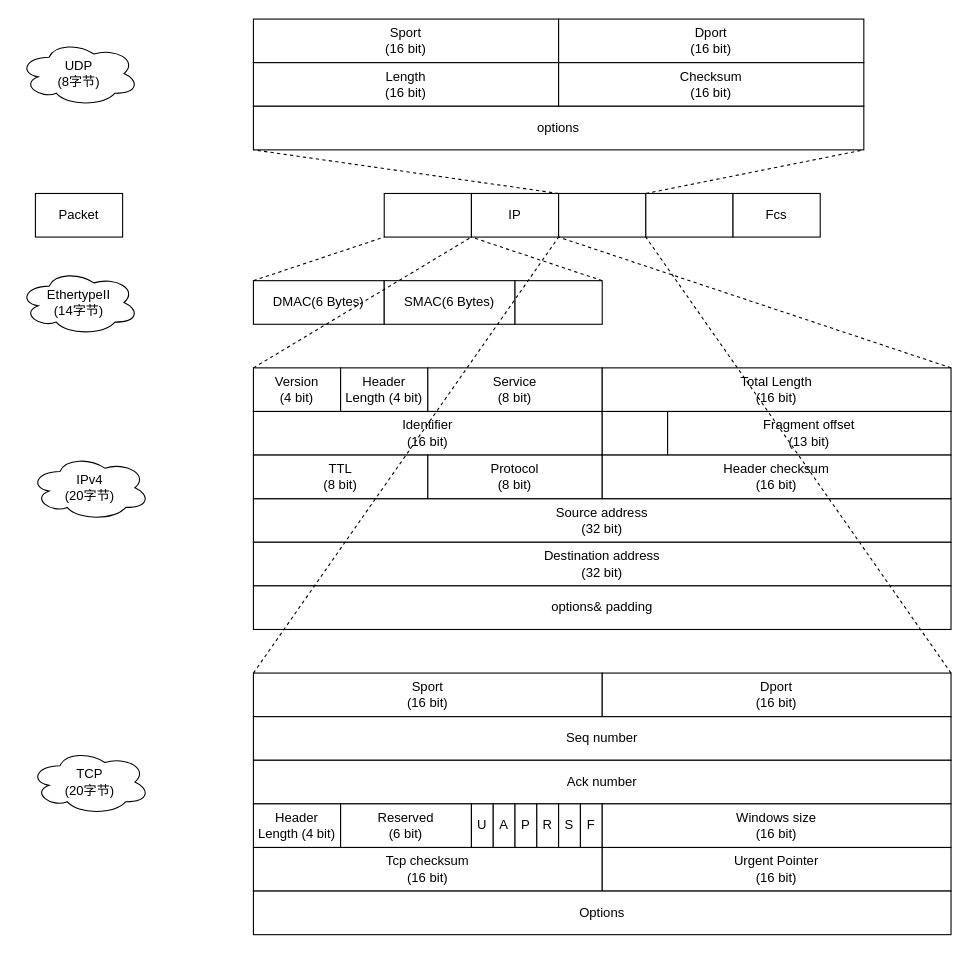
Some shapes in this 971 by 954 pixel diagram are drawn without their labels. The shapes that lost their labels are listed below. From the top down, each one's centre as x and y in pixels, then its label:
At (x=427, y=214): "EtherTypeII".
At (x=602, y=214): "TCP/UDP".
At (x=689, y=214): "Data".
At (x=558, y=302): "TYPE (2 Bytes)".
At (x=634, y=432): "Flags (3 bit)".
